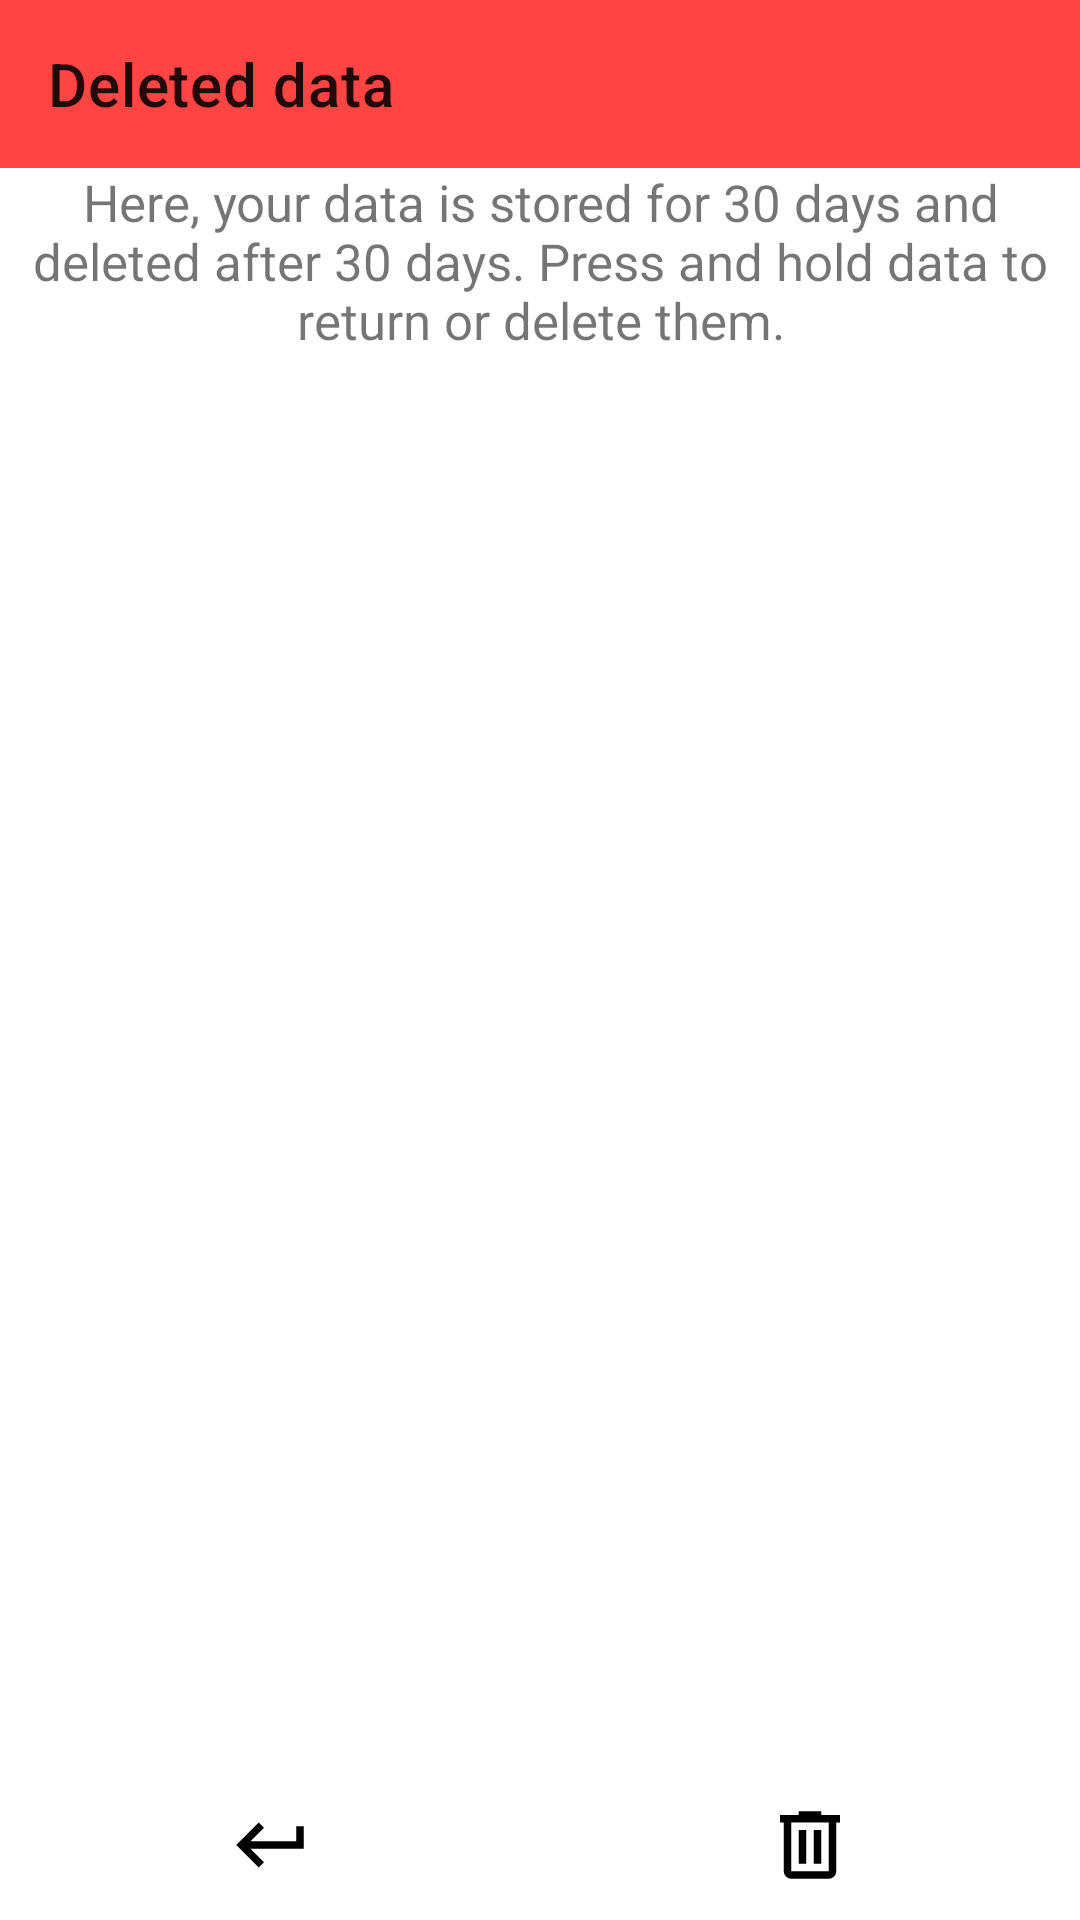

Screen size 1080×1920. Icon name, then its box in pixels as (x1,y1,x2,y2):
delete: (780,1811,840,1879)
keyboard return: (236,1822,304,1868)
